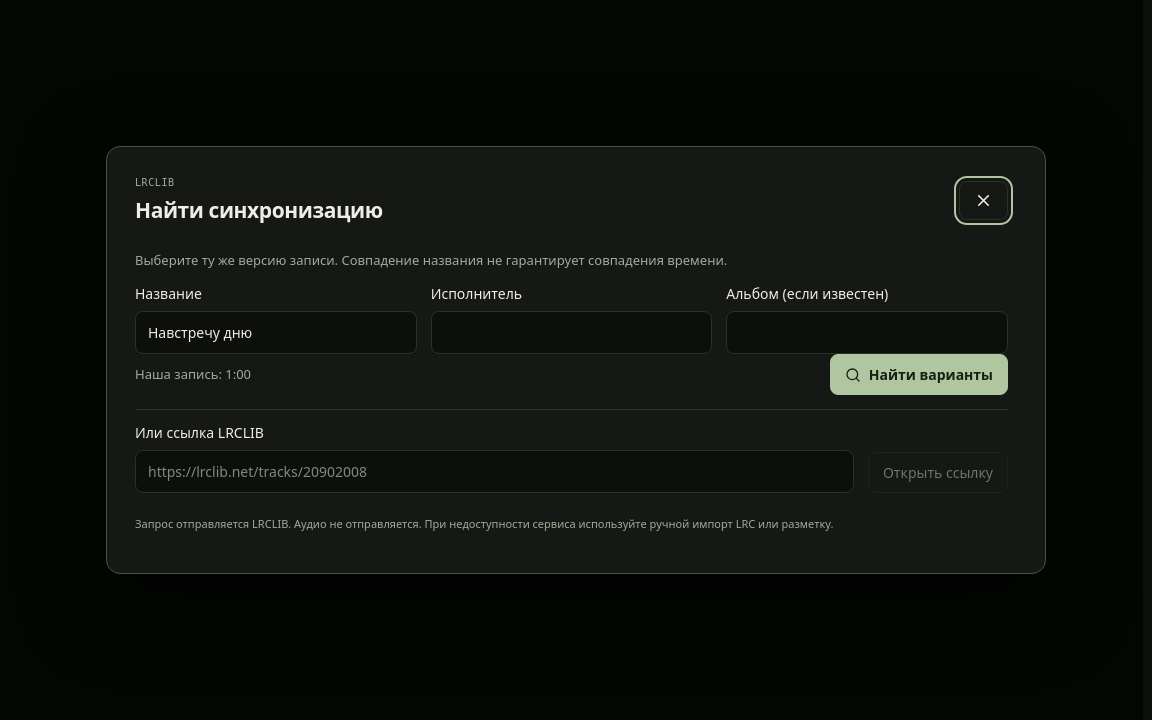
Test case: searches with editable song metadata, shows versions/duration and does not fabricate a map for plain results
Step 1. Type "Studio" into the field labelled "Альбом (если известен)" → (867, 333), box [726, 311, 1008, 354]
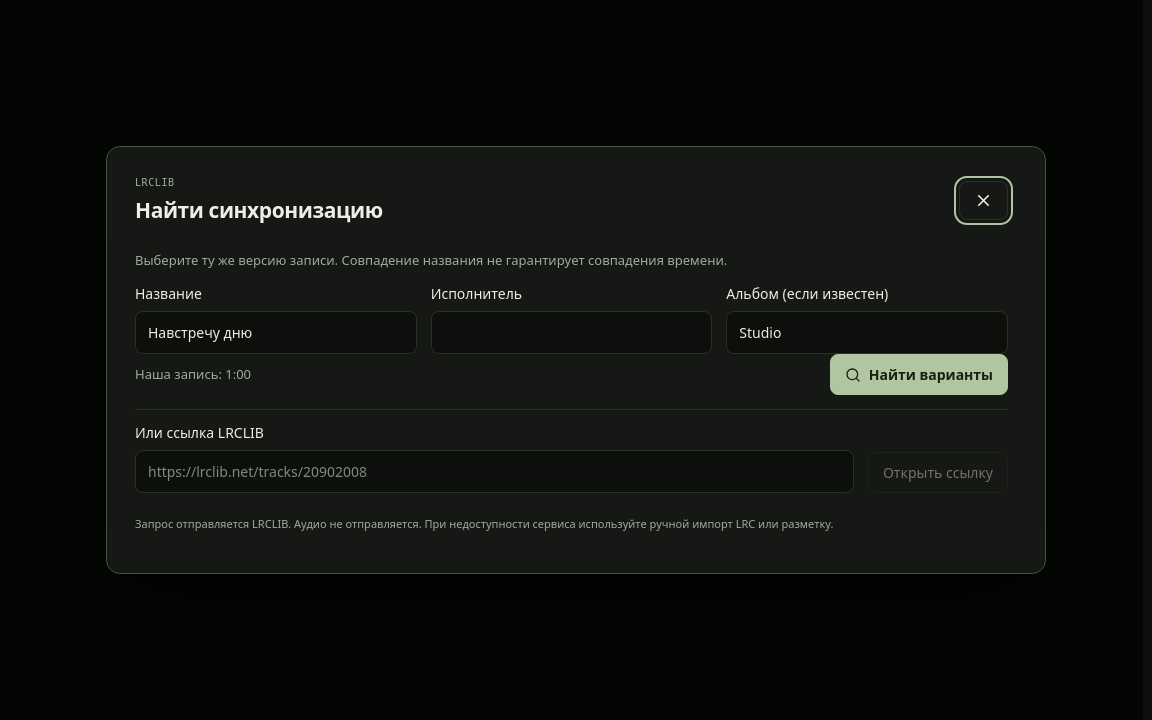
Step 2. Click the button "Найти варианты" → (919, 375), box [830, 354, 1008, 395]
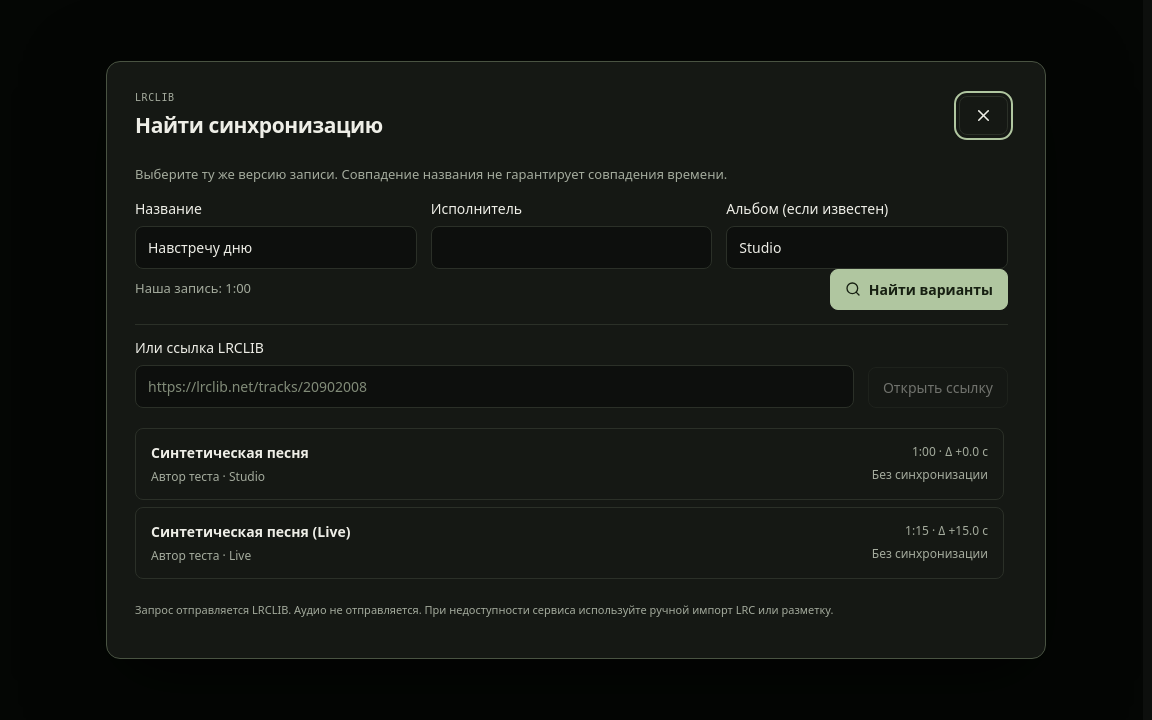
Check: the button "Синтетическая песня (Live)" is shown, box [135, 507, 1004, 579]
Check: the text "1:15 · Δ +15.0 с" is shown, box [905, 522, 988, 539]
Step 3. Click the button "Синтетическая песня Автор теста" → (230, 452), box [135, 428, 1004, 500]
(page scrolled)
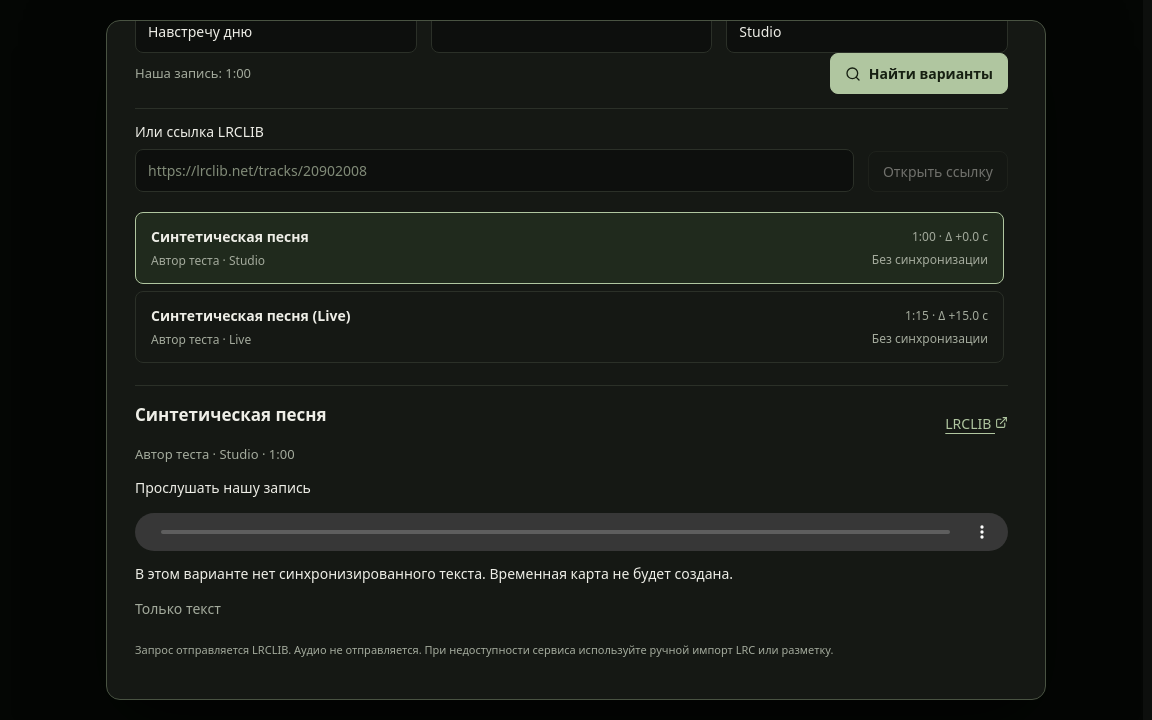
Check: the text "В этом варианте нет синхронизированного текста" is shown, box [135, 564, 733, 583]
